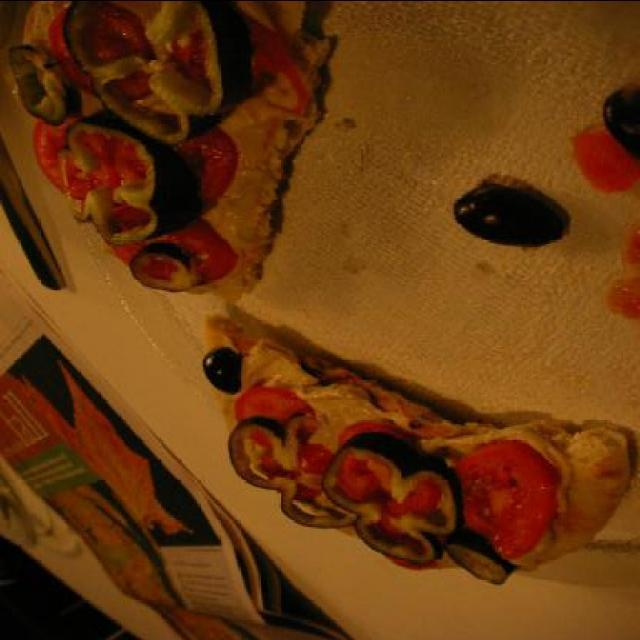Pizza: (197, 324, 615, 598), (30, 8, 321, 312)
